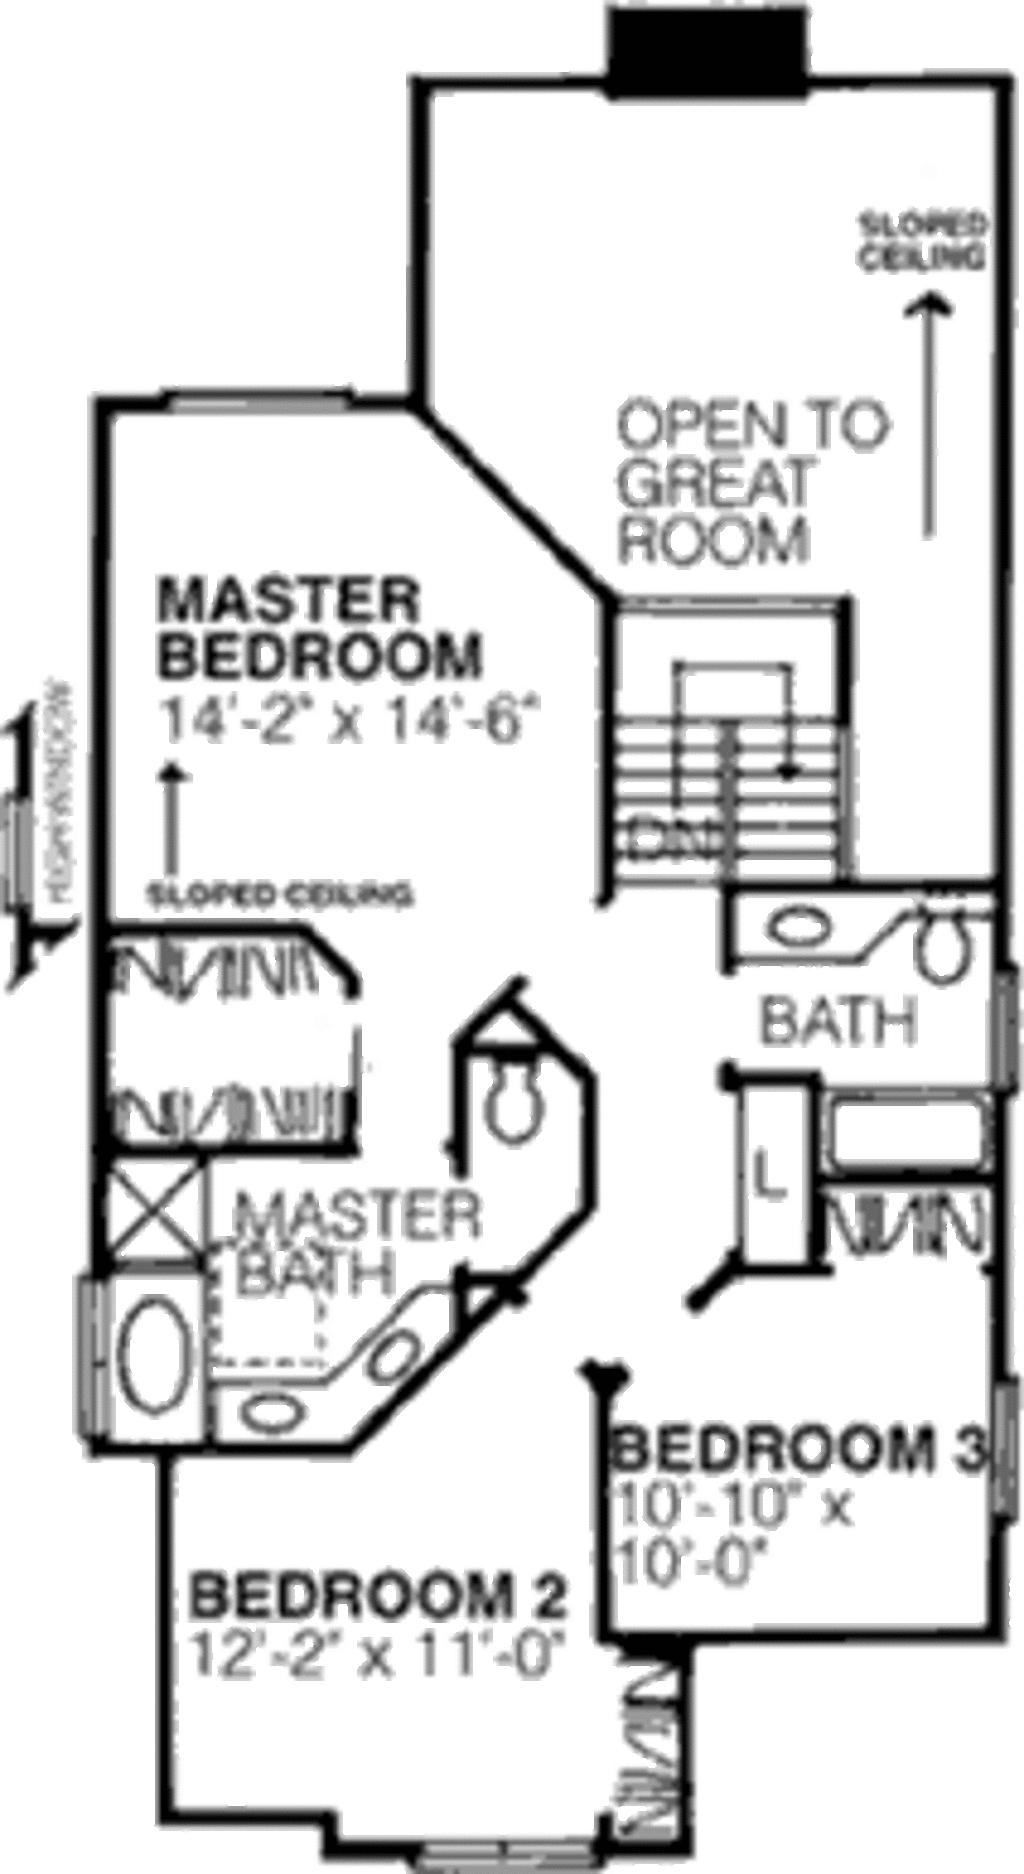large_sink: (454, 1027, 579, 1174), (908, 887, 982, 998)
small_sink: (208, 1284, 451, 1452), (738, 892, 893, 960)
stairs: (615, 574, 861, 884)
tub: (106, 1247, 208, 1441), (839, 1066, 1016, 1177)
window: (136, 366, 404, 438), (373, 1819, 617, 1874), (982, 1365, 1024, 1532)
